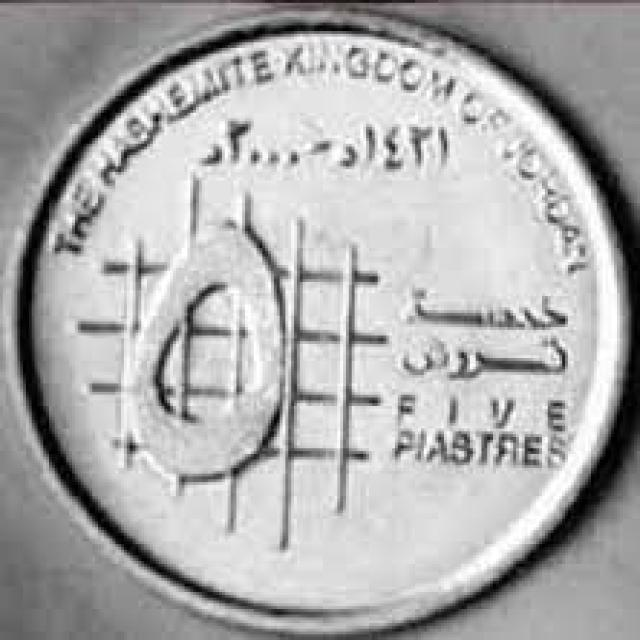5-coins: (6, 0, 640, 637)
